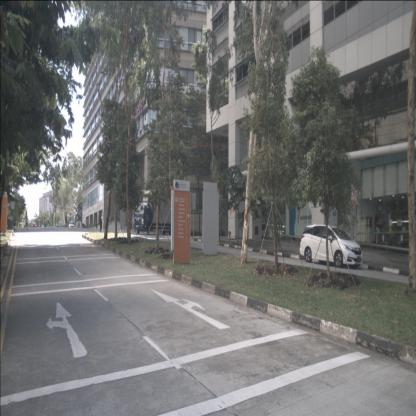human-pedestrian-adult: (24, 211, 30, 230), (65, 212, 69, 228)
vehicle-car: (299, 224, 363, 268), (31, 222, 37, 229), (69, 221, 75, 228)
vehicle-truck: (134, 190, 185, 234)
